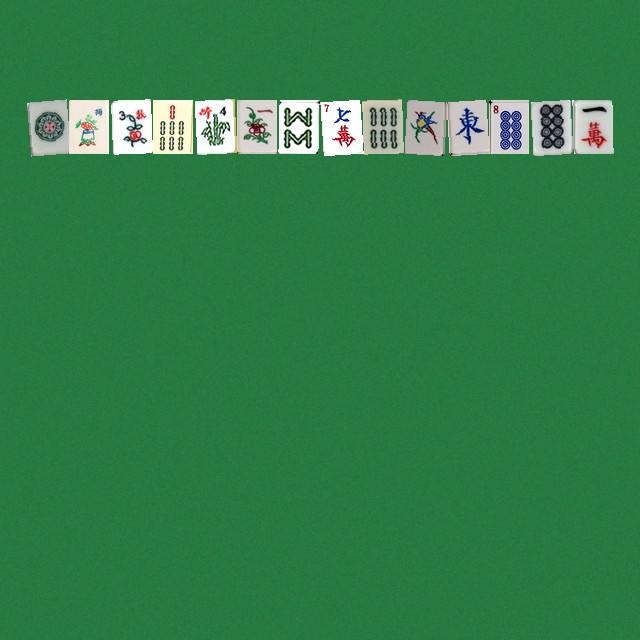tile: (26, 99, 66, 153), (68, 99, 108, 153), (110, 99, 150, 153), (152, 99, 192, 153), (194, 99, 234, 153), (236, 99, 276, 153), (278, 99, 318, 153), (320, 99, 360, 153), (362, 99, 402, 153), (404, 99, 444, 153), (446, 99, 486, 153), (488, 99, 528, 153), (530, 99, 570, 153), (572, 99, 612, 153)
